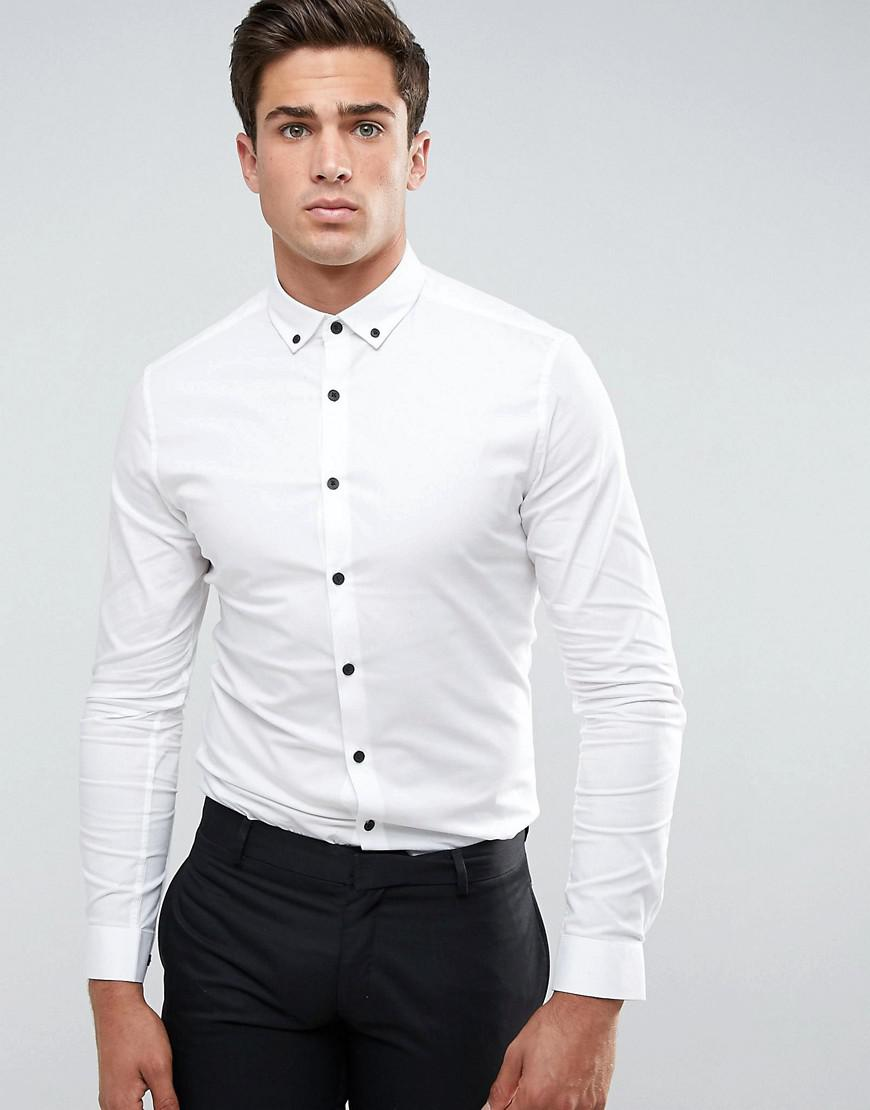teeshirt: (57, 252, 695, 1034)
